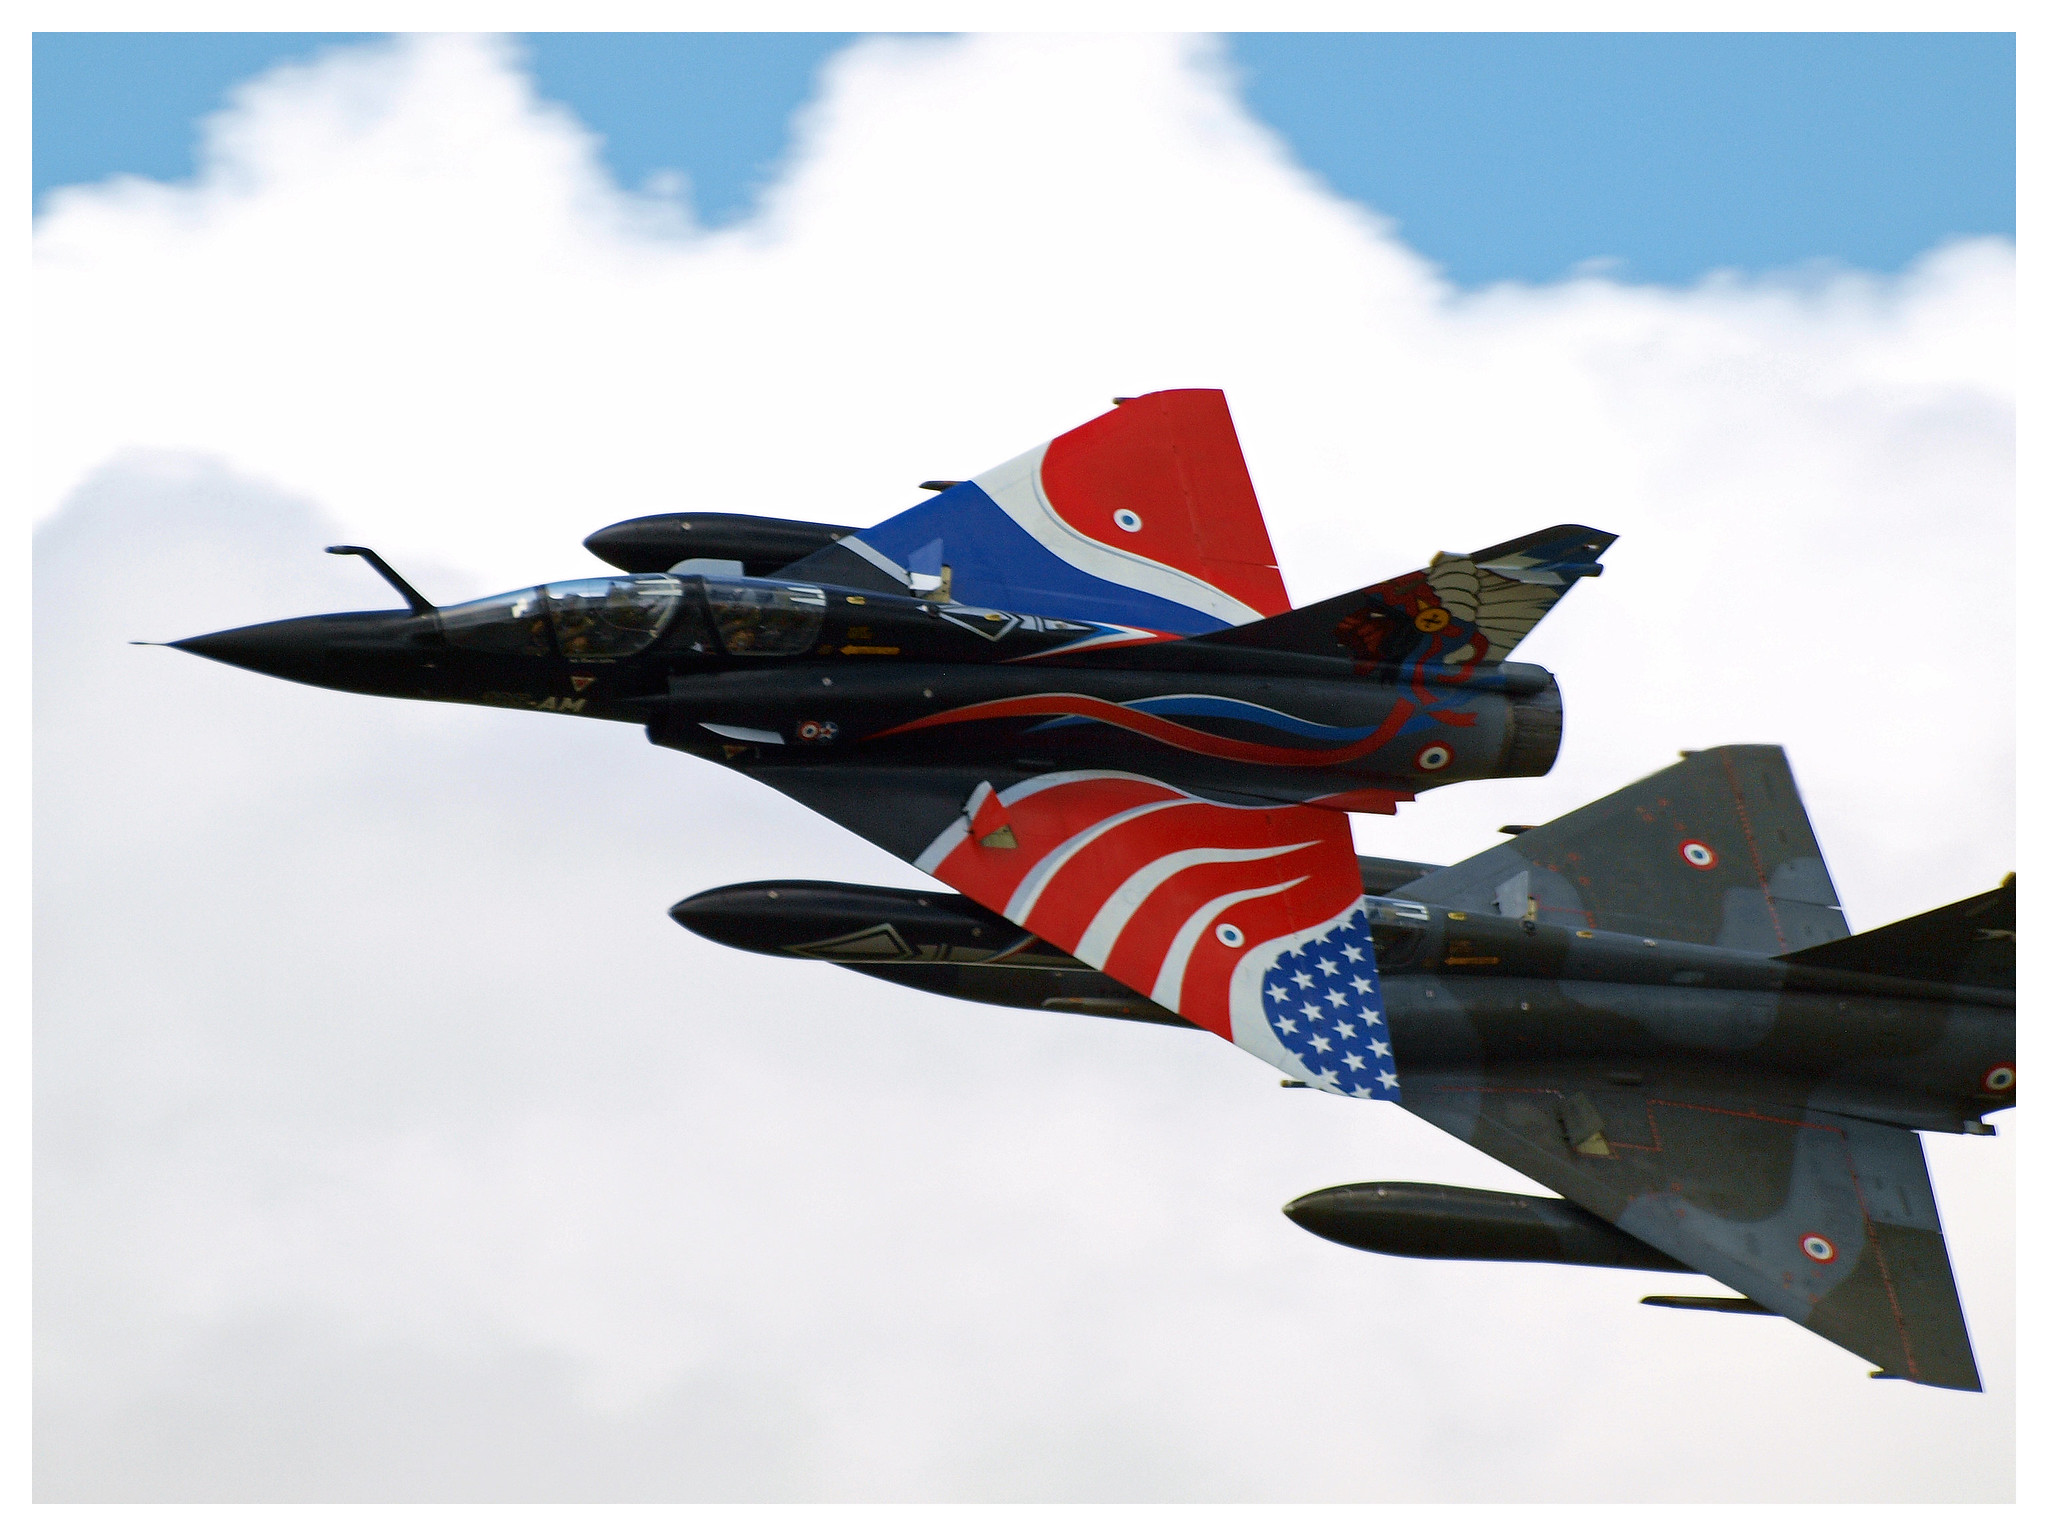Mirage2000: (127, 389, 1621, 1107), (829, 744, 2016, 1392)
